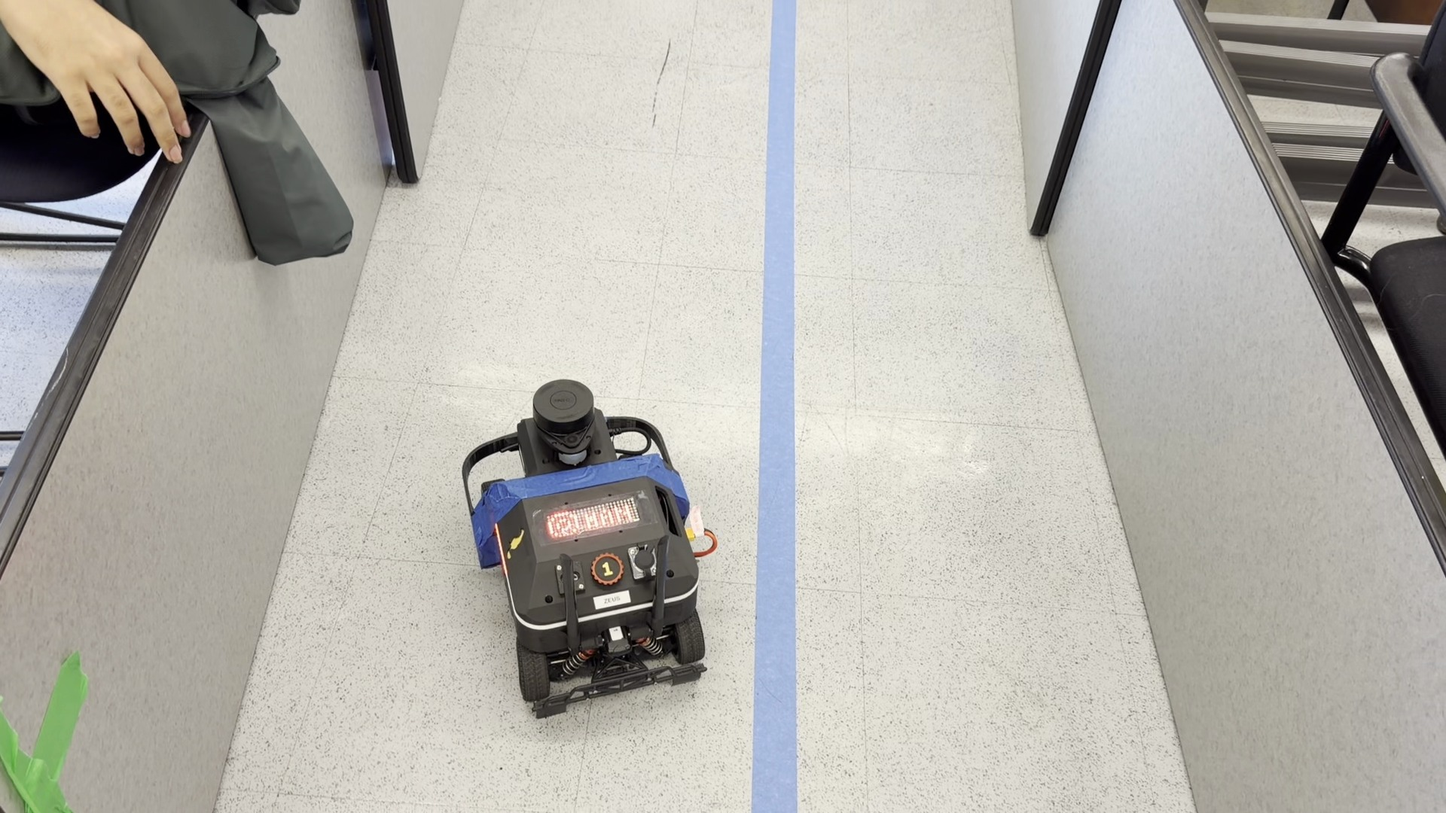racecar: (460, 379, 717, 715)
